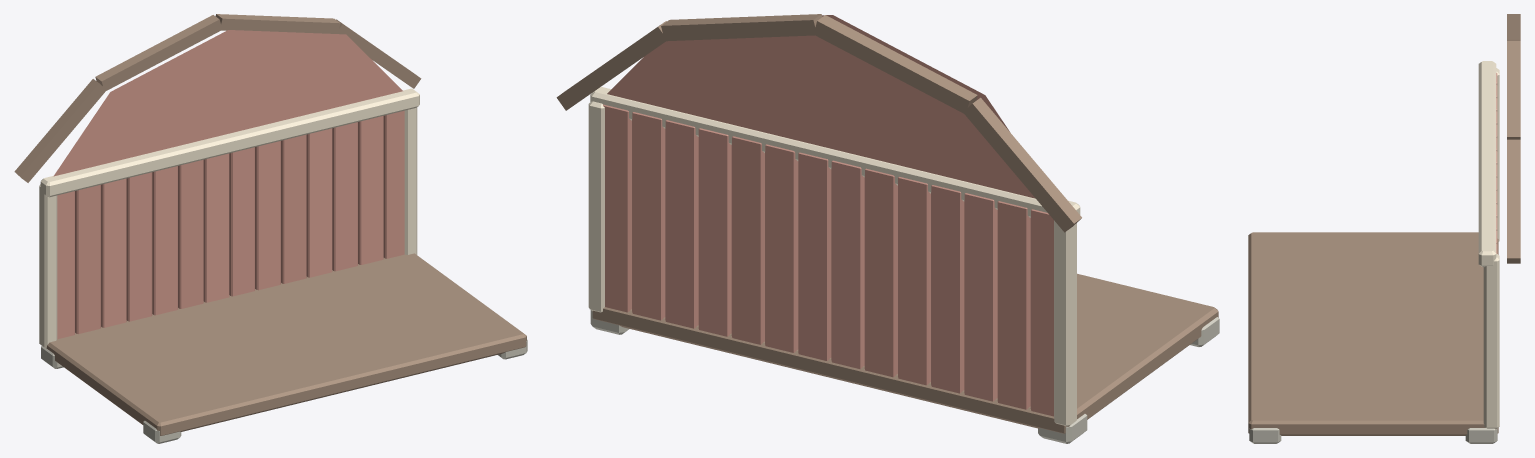
Rendered from crafted-barn-2-ready-back.glb.
3 views of the same model, side by side, from view 1: azimuth 30°, elevation 25°; view 2: azimuth 150°, elevation 25°; view 3: azimuth 270°, elevation 25° (orthographic). The views are drawn at different scales.
Parts seen in each view (by area): view 1: floor, gable, header, siding-3, siding-6, siding-10, siding-9, siding-4, siding-7, siding-2, siding-12, siding-1 (+11 smaller); view 2: gable, floor, siding-6, siding-1, siding-10, siding-11, siding-12, siding-2, siding-7, siding-3, siding-8, siding-5 (+12 smaller); view 3: floor, header, corner-post-2, barge-board-6, barge-board-4, corner-post, stone-foot-3, stone-foot-2, barge-board-2.
Part boxes in pixels (left/top/right/bottom): floor: left=46, top=253, right=526, bottom=435; gable: left=53, top=30, right=402, bottom=176; header: left=40, top=88, right=419, bottom=197; siding-3: left=126, top=172, right=152, bottom=321; siding-6: left=203, top=153, right=229, bottom=302; siding-10: left=306, top=128, right=332, bottom=277; siding-9: left=281, top=134, right=306, bottom=283; siding-4: left=152, top=166, right=177, bottom=315; siding-7: left=229, top=147, right=254, bottom=296; siding-2: left=101, top=178, right=126, bottom=327; siding-12: left=358, top=116, right=383, bottom=264; siding-1: left=75, top=185, right=100, bottom=333; gable: left=607, top=15, right=1035, bottom=198; floor: left=592, top=273, right=1218, bottom=433; siding-6: left=831, top=160, right=864, bottom=368; siding-1: left=997, top=201, right=1030, bottom=409; siding-10: left=698, top=128, right=731, bottom=336; siding-11: left=665, top=120, right=698, bottom=328; siding-12: left=632, top=112, right=665, bottom=320; siding-2: left=964, top=193, right=997, bottom=401; siding-7: left=798, top=152, right=831, bottom=360; siding-3: left=931, top=185, right=964, bottom=393; siding-8: left=765, top=144, right=798, bottom=352; siding-5: left=864, top=168, right=897, bottom=377; floor: left=1248, top=232, right=1498, bottom=435; header: left=1478, top=61, right=1496, bottom=267; corner-post-2: left=1483, top=253, right=1499, bottom=428; barge-board-6: left=1507, top=139, right=1520, bottom=263; barge-board-4: left=1507, top=41, right=1520, bottom=139; corner-post: left=1496, top=68, right=1499, bottom=241; stone-foot-3: left=1249, top=428, right=1281, bottom=443; stone-foot-2: left=1465, top=428, right=1497, bottom=443; barge-board-2: left=1507, top=14, right=1520, bottom=40.
Bounding box in the file's own units: 2.89 × 2.02 × 1.61.
